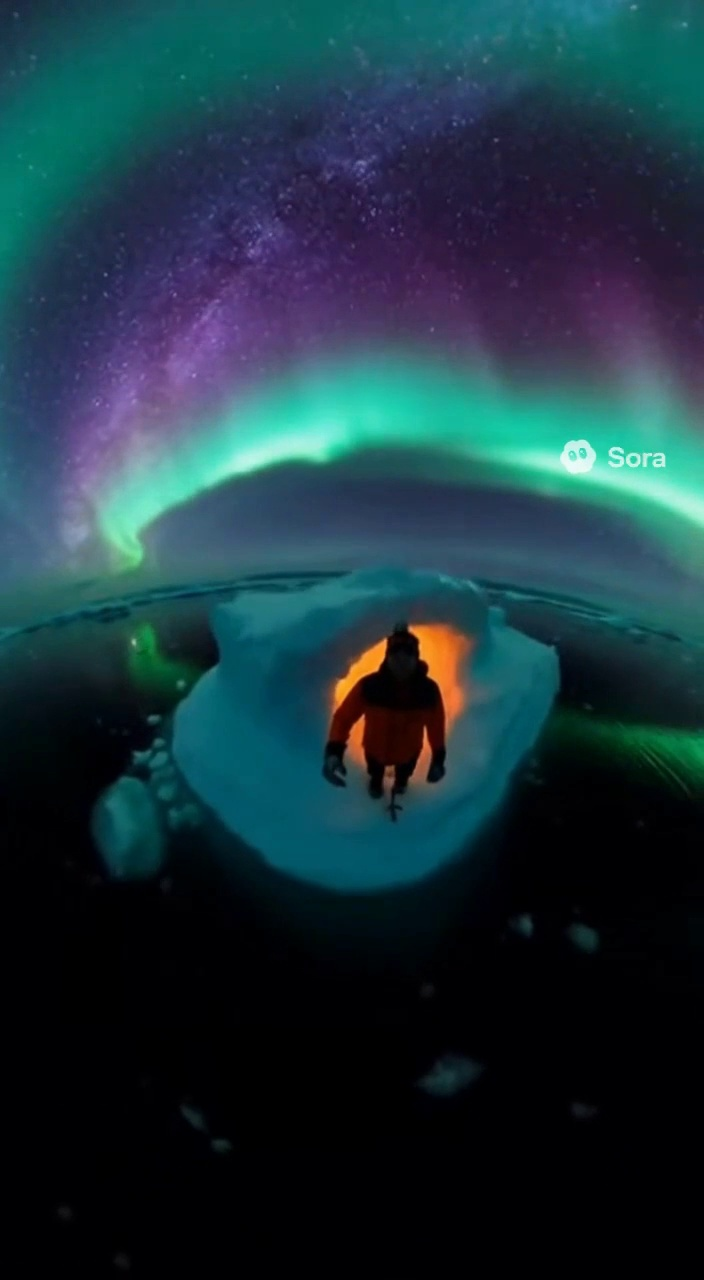watermark: (473, 437, 576, 480)
